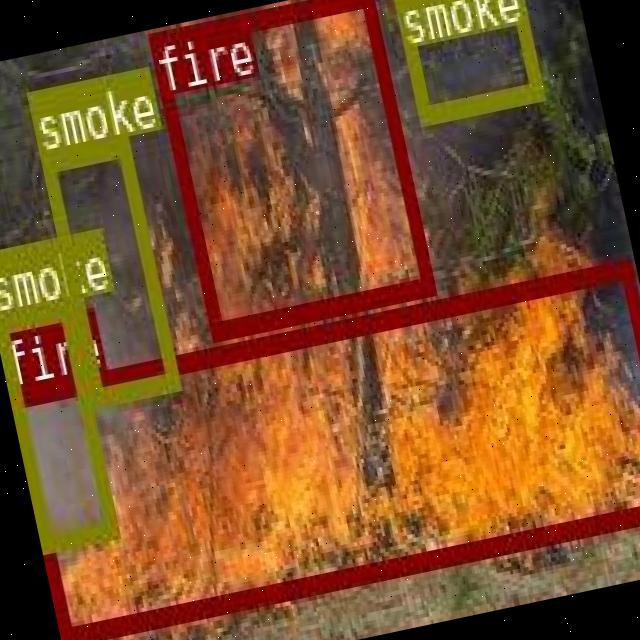fire: (7, 255, 640, 640), (146, 0, 432, 336)
smoke: (38, 134, 176, 403), (0, 298, 116, 549), (388, 0, 540, 121)
